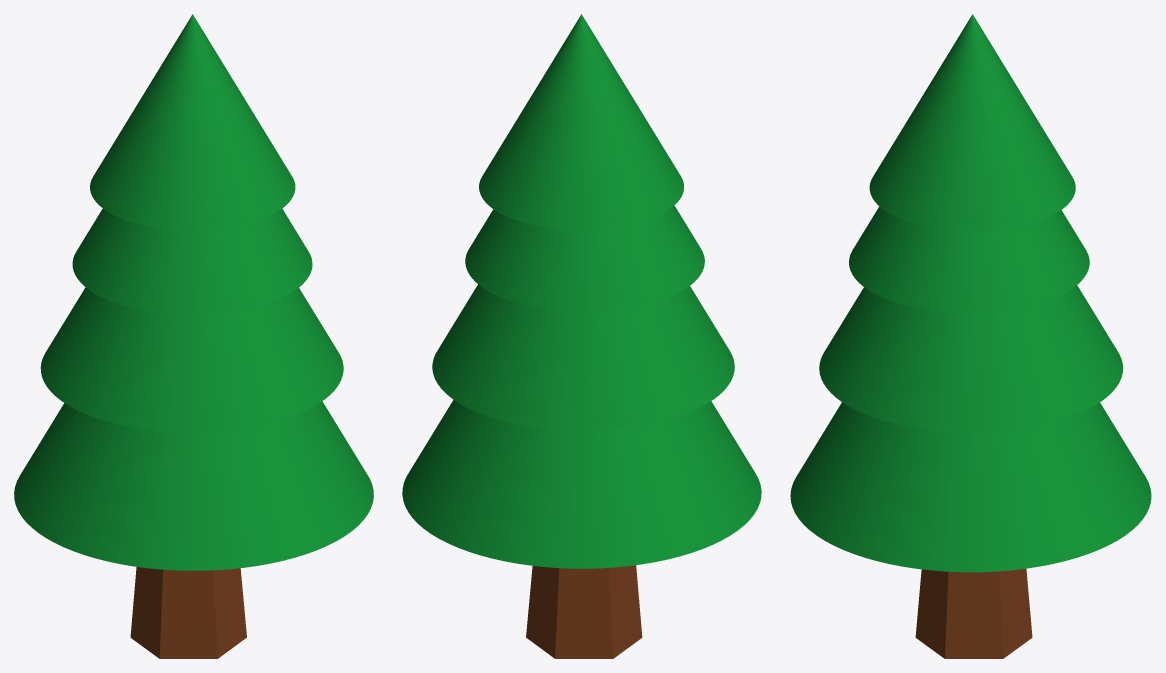
File: Pine_Tree.fbx
3 renders of one model, left to right at view 1: azimuth 30°, elevation 25°; view 2: azimuth 150°, elevation 25°; view 3: azimuth 270°, elevation 25°, orthographic.
Visible parts, largest first — view 1: root (×5); view 2: root (×5); view 3: root (×5).
Boxes of the visible parts, x1,y1,x2,y2 form: root (×5): (14,14,373,658); root (×5): (402,14,761,658); root (×5): (790,14,1151,658).
Bounding box in the file's own units: 0.2316 × 0.4425 × 0.2316.
Materials: 2 (1 with a texture image).
